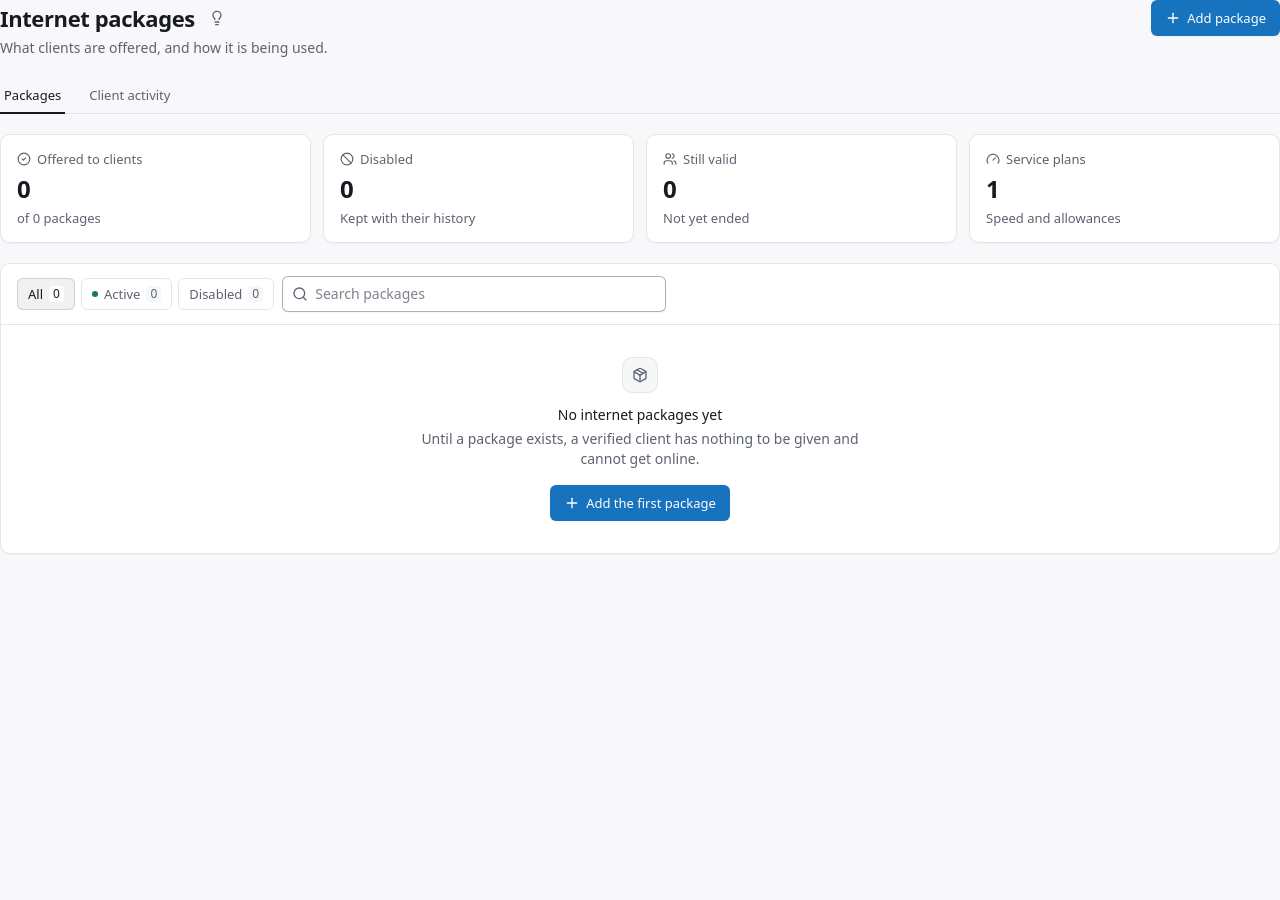
Test case: InternetPackagesPage — packages › a failed save shows an error and does not falsely report success
Click the button "Add package": (1216, 18) [1151,0,1279,36]
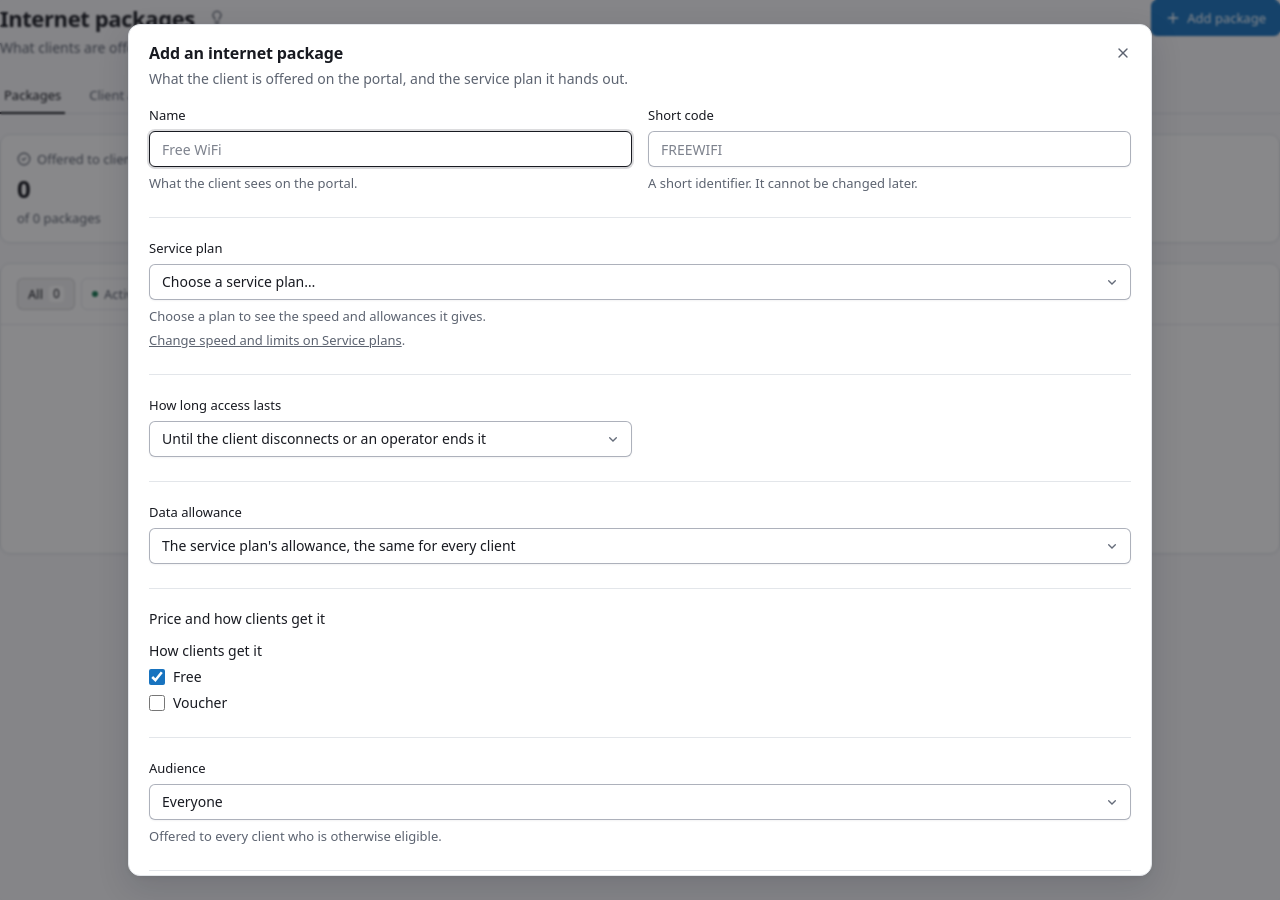
In the field with test id "code": (890, 149) [648,131,1131,167], type "X"
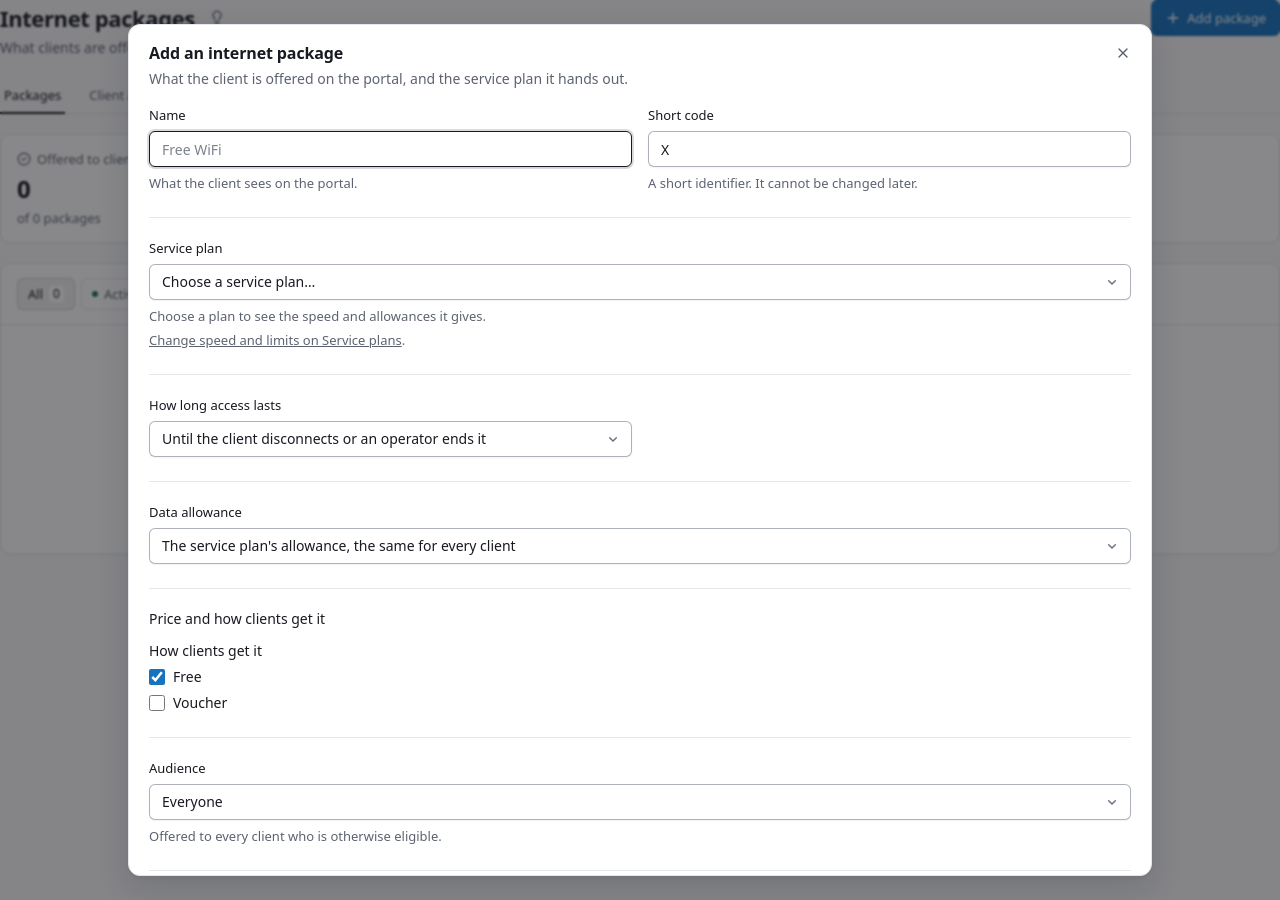
Select "Gold" in the dropdown with test id "service-plan": (640, 282) [149,264,1131,300]
(page scrolled)
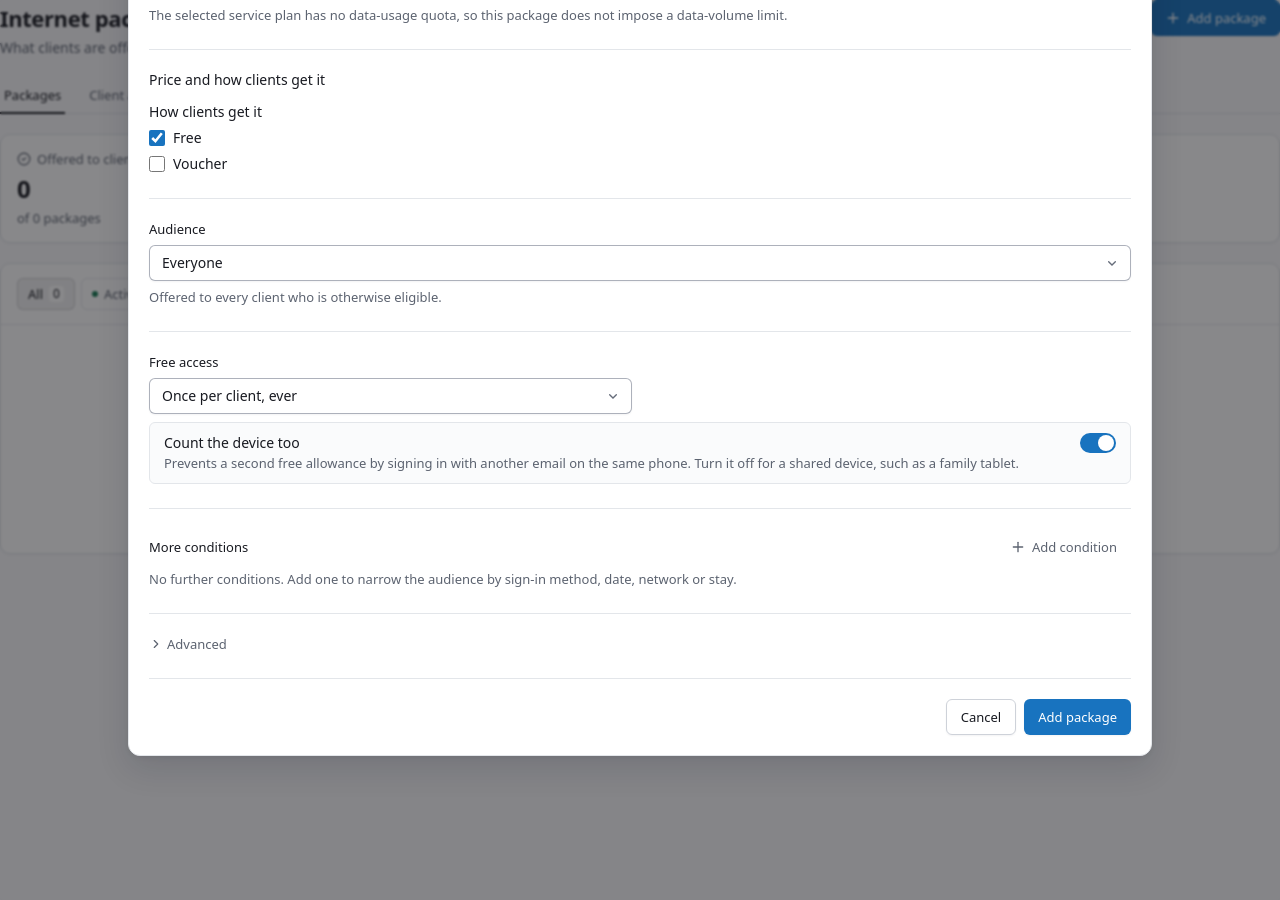
Click the button "Add package": (1078, 717) [1024,699,1131,735]
(page scrolled)
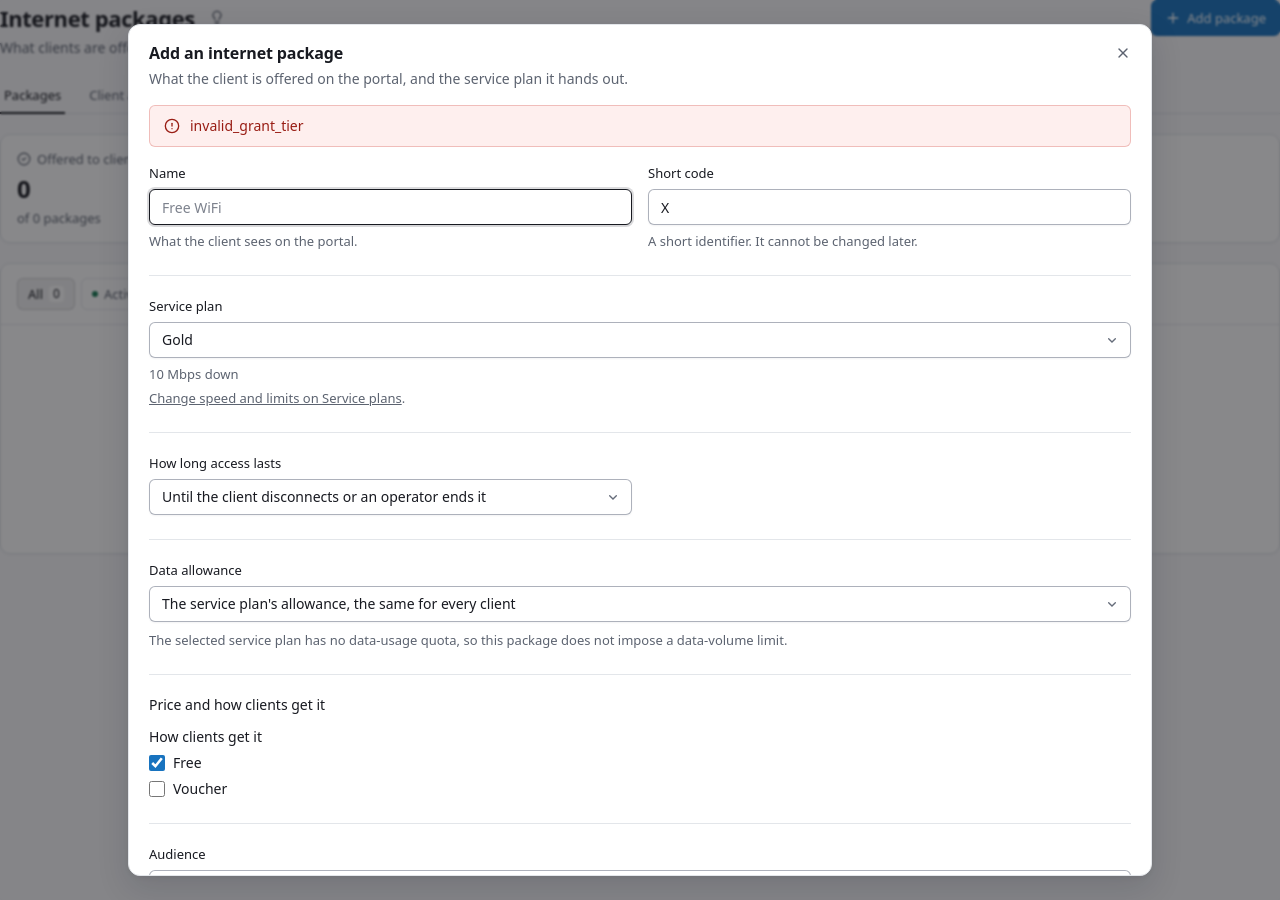
Expected: the text "invalid_grant_tier" is shown, [190,116,304,136]
